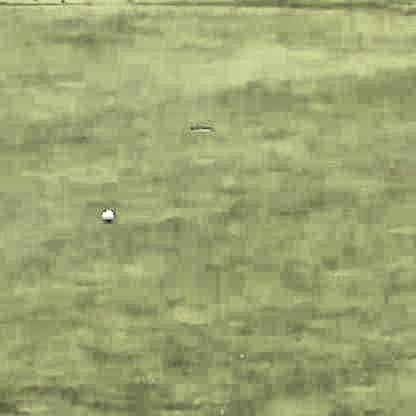golfball: (99, 207, 113, 221)
